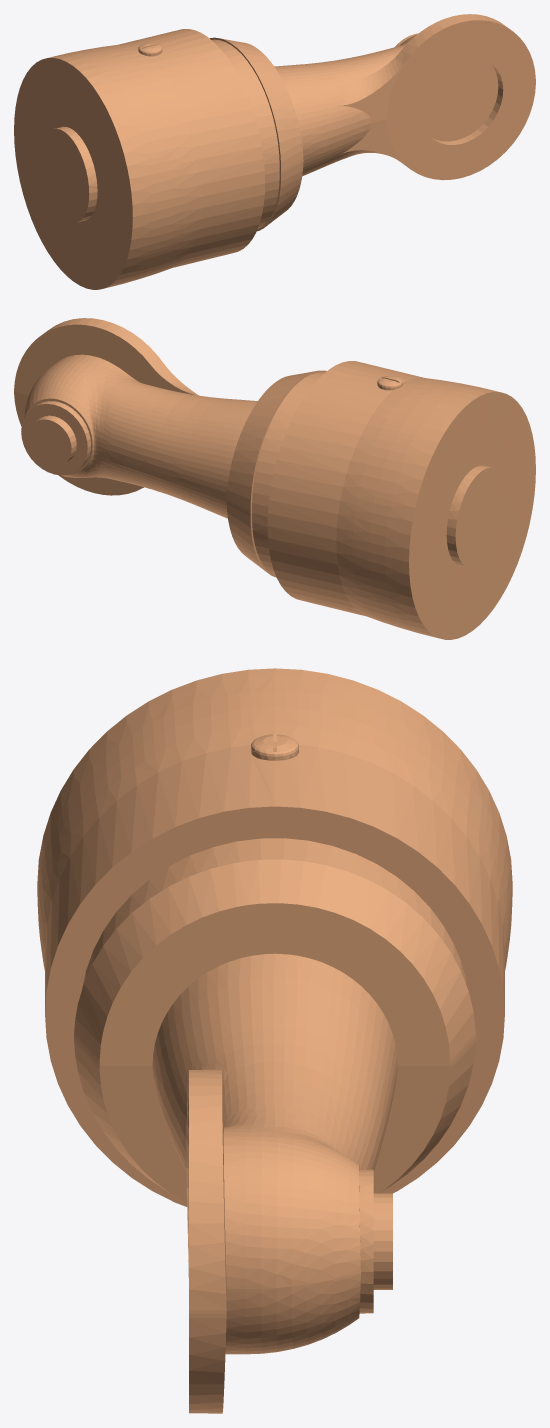
3 renders of one model, top to bottom at view 1: azimuth 30°, elevation 25°; view 2: azimuth 150°, elevation 25°; view 3: azimuth 270°, elevation 25°, orthographic. The views are drawn at different scales.
Parts seen in each view (by area): view 1: link_04; view 2: link_04; view 3: link_04.
Boxes of the visible parts, left/top/right/bottom form: link_04: left=14, top=14, right=535, bottom=289; link_04: left=14, top=318, right=535, bottom=639; link_04: left=37, top=668, right=512, bottom=1413.
Bounding box in the file's own units: 0.5371 × 0.246 × 0.2475.
